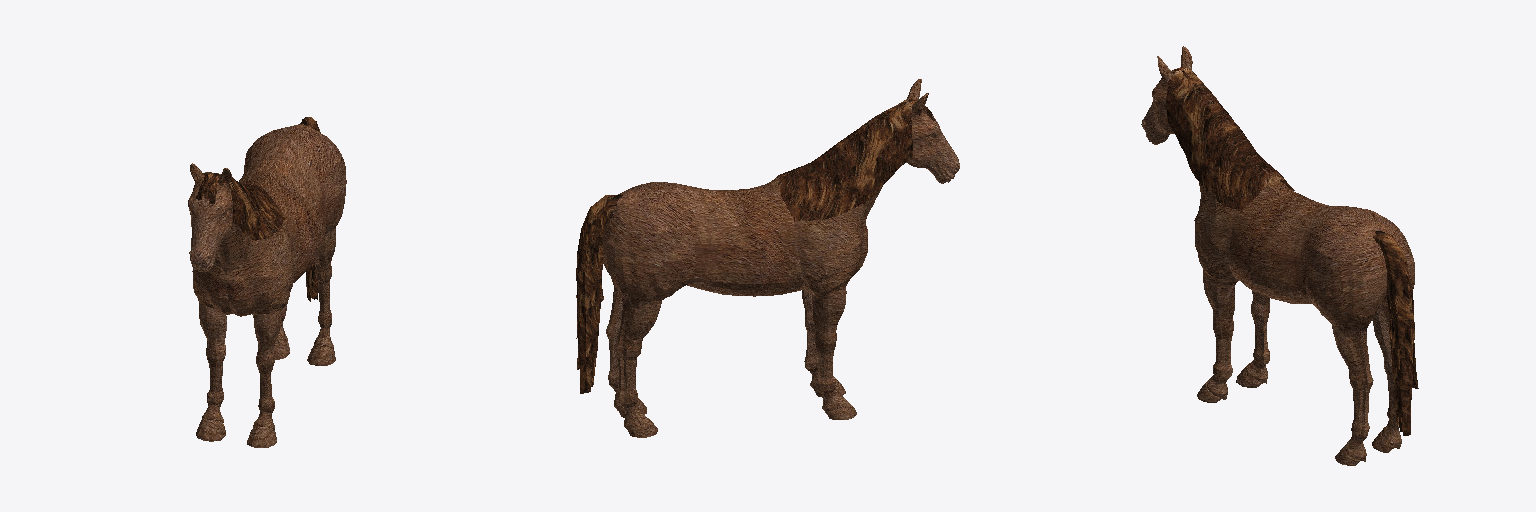
The picture shows the model from 3 angles: view 1: azimuth 30°, elevation 25°; view 2: azimuth 150°, elevation 25°; view 3: azimuth 270°, elevation 25°; orthographic projection.
Parts seen in each view (by area): view 1: horse_obj:horse___N, horse_obj:crest1__N; view 2: horse_obj:horse___N, horse_obj:crest3__N, horse_obj:tail____N, horse_obj:Object05N, horse_obj:Object06N; view 3: horse_obj:horse___N, horse_obj:crest1__N, horse_obj:tail____N, horse_obj:crest___N, horse_obj:crest3__N, horse_obj:crest2__N.
Part boxes in pixels (x1,y1,x2,y2): horse_obj:horse___N: (188,124,346,447); horse_obj:crest1__N: (200,173,285,240); horse_obj:horse___N: (602,79,959,437); horse_obj:crest3__N: (776,103,912,221); horse_obj:tail____N: (576,195,622,393); horse_obj:Object05N: (588,252,603,305); horse_obj:Object06N: (586,305,598,356); horse_obj:horse___N: (1141,46,1414,465); horse_obj:crest1__N: (1159,71,1272,212); horse_obj:tail____N: (1373,231,1413,435); horse_obj:crest___N: (1166,67,1272,212); horse_obj:crest3__N: (1186,68,1294,190); horse_obj:crest2__N: (1182,68,1291,189).
Size of the model in its own units: 6.75 by 7.78 by 6.29.
1 materials, 1 textured.